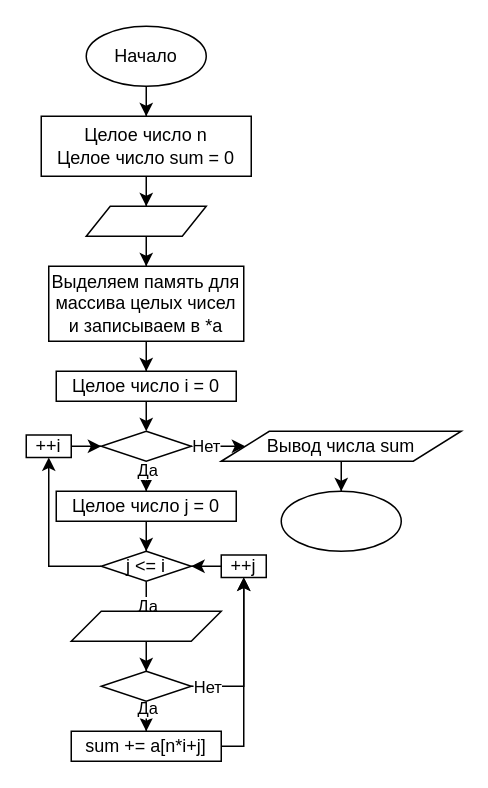
Some shapes in this 488 by 788 pixel diagram are drawn without their labels. Here are the shapes that lost their labels. From the top down, the box of each, then its label:
(85, 205, 206, 236): Ввод n
(100, 430, 191, 461): i <=n
(280, 490, 401, 551): Конец
(70, 610, 221, 641): Ввод a[n*i+j]
(100, 670, 191, 701): i == j
